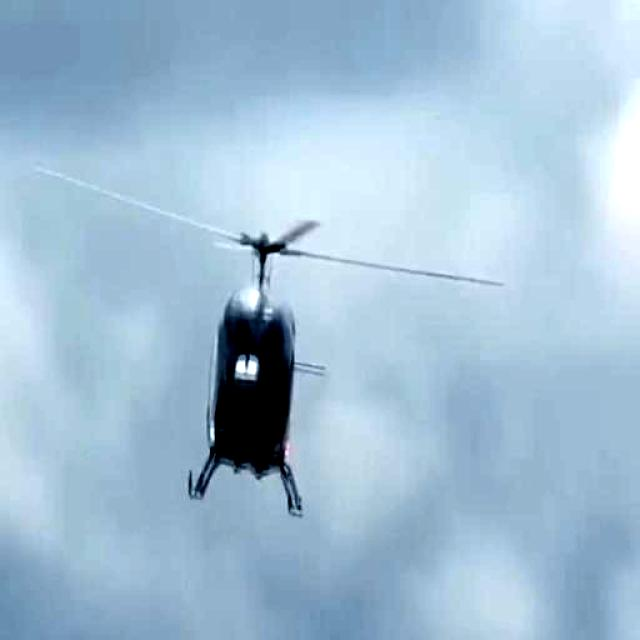drone: (169, 190, 342, 539)
